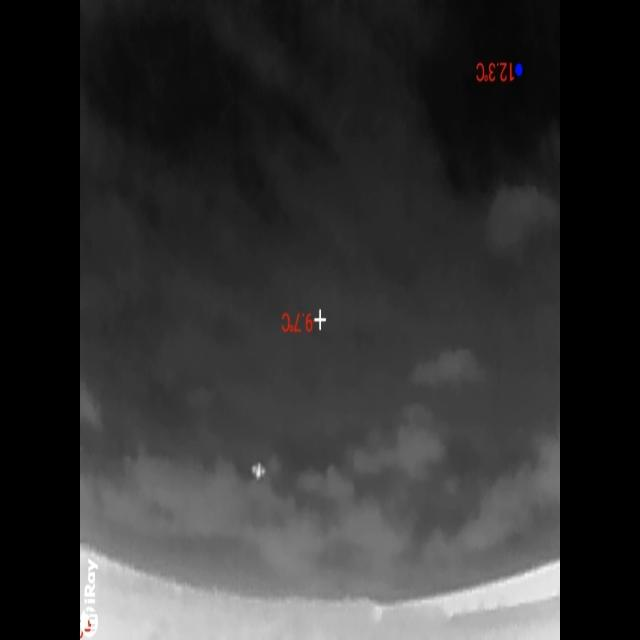drone: (251, 456, 267, 483)
